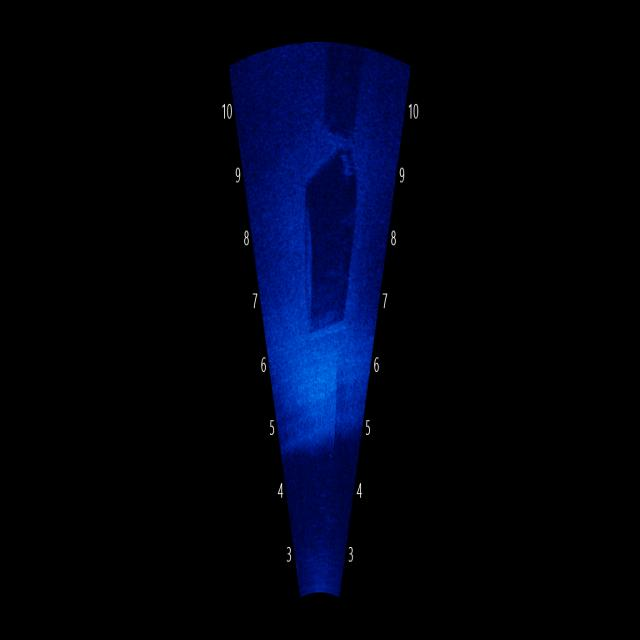square: (304, 148, 372, 358)
